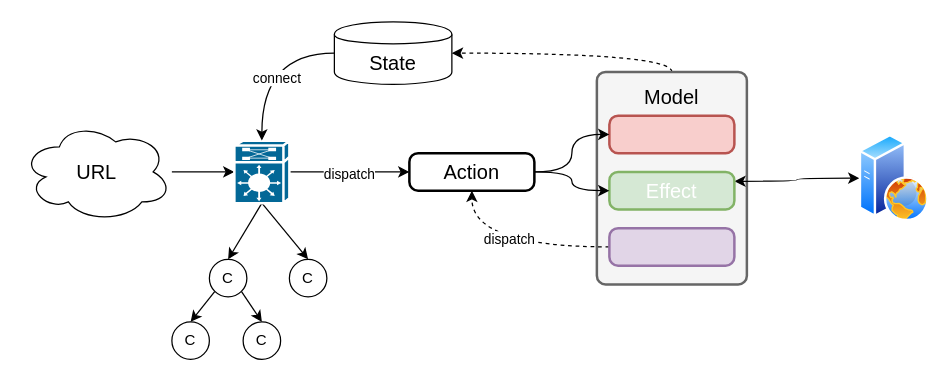
This 951x381 diagram has some shape labels left out. The shapes that lost their labels are listed below. From the top down, each one's box as (x1, y1, x2, y2) in pixels, then its label:
(608, 114, 735, 154): Reducer
(232, 139, 290, 204): Route Component
(859, 134, 929, 221): Server
(608, 226, 735, 266): Subscription
